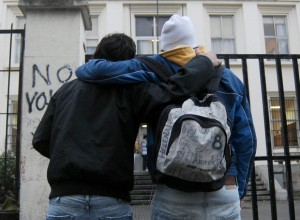person: (66, 37, 143, 132)
